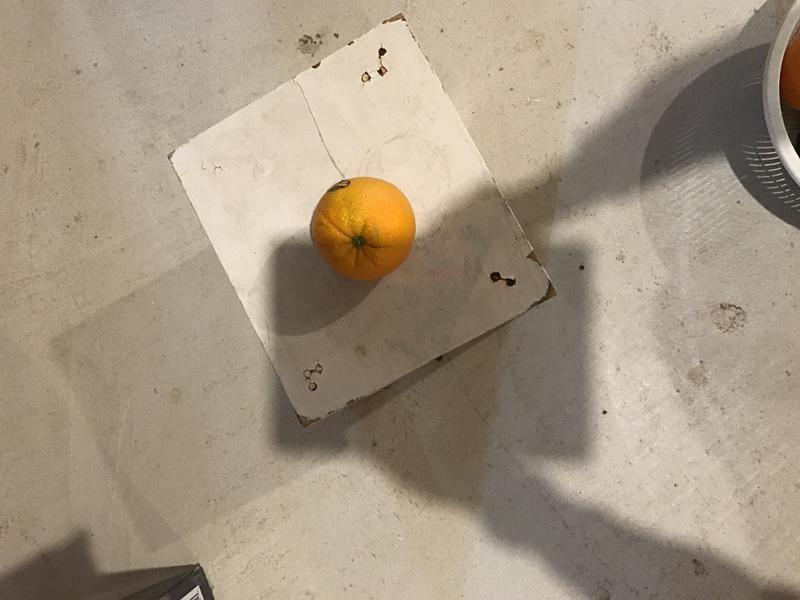orange: (307, 174, 424, 287)
